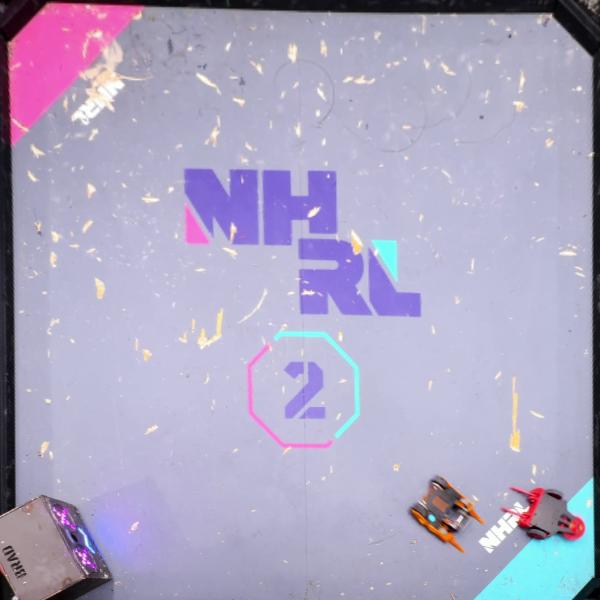housebot: (0, 491, 111, 600)
robot: (407, 474, 484, 552), (500, 484, 586, 541)
